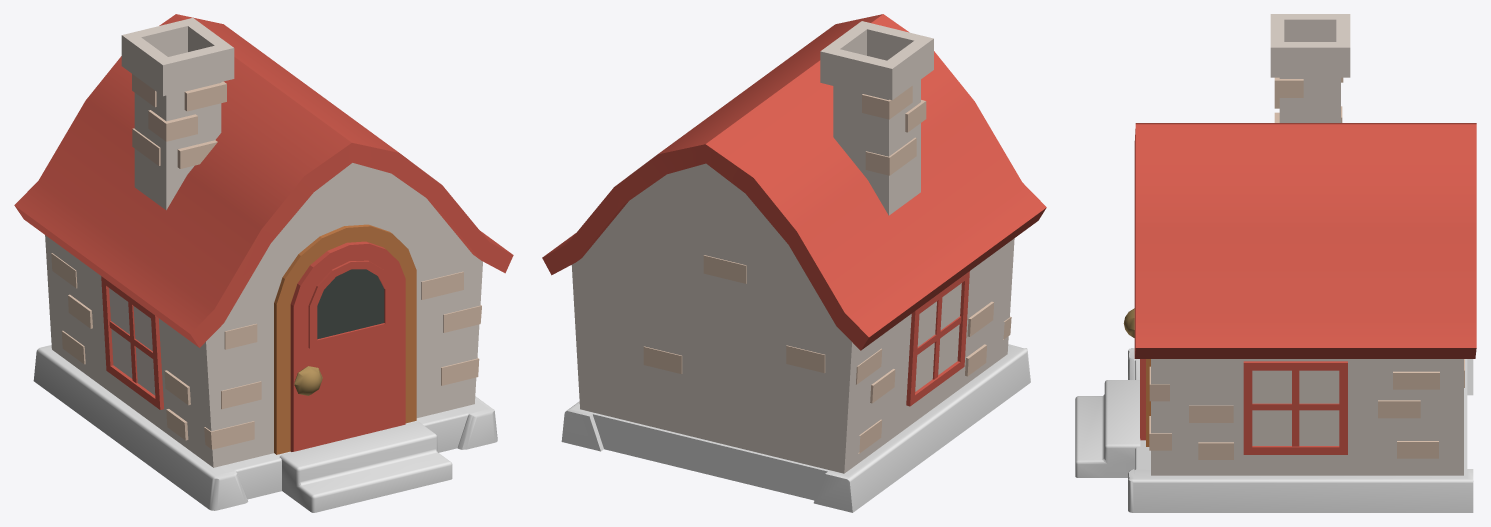
Rendered from House_1Room_Blue.fbx.
The picture shows the model from 3 angles, left to right: view 1: azimuth 30°, elevation 25°; view 2: azimuth 150°, elevation 25°; view 3: azimuth 270°, elevation 25°; orthographic projection. The views are drawn at different scales.
Visible parts, largest first — view 1: House_1Room_Blue, Cube; view 2: House_1Room_Blue, Cube; view 3: House_1Room_Blue, Cube.
Boxes of the visible parts, box(x1,y1,x2,y2) form: House_1Room_Blue: box(14, 14, 513, 467); Cube: box(33, 345, 497, 512); House_1Room_Blue: box(542, 14, 1046, 473); Cube: box(561, 344, 1030, 512); House_1Room_Blue: box(1123, 14, 1476, 475); Cube: box(1075, 348, 1473, 512).
Size of the model in its own units: 3.47 by 3.96 by 3.84.
